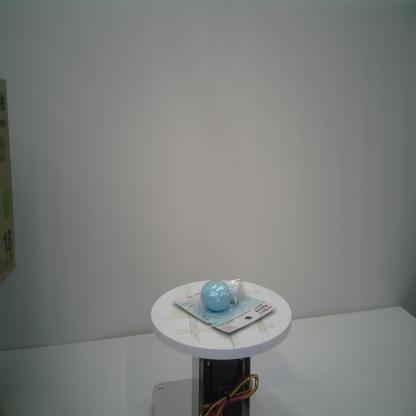Stationery: (172, 277, 278, 334)
